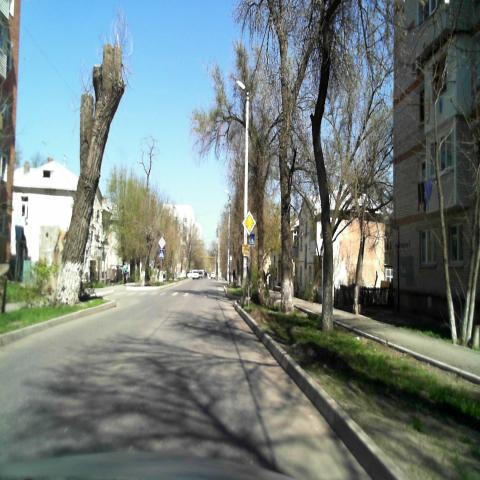2_1: (242, 212, 256, 235)
5_19_1: (248, 234, 256, 245), (159, 250, 165, 258)
